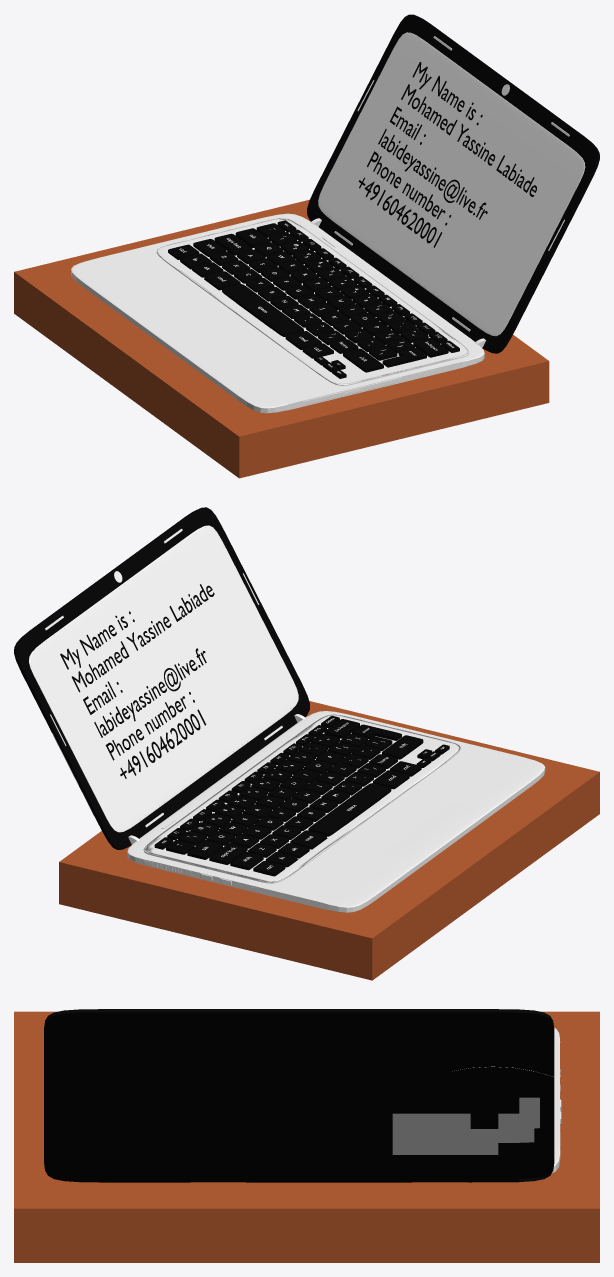
The picture shows the model from 3 angles, top to bottom: view 1: azimuth 30°, elevation 25°; view 2: azimuth 150°, elevation 25°; view 3: azimuth 270°, elevation 25°; orthographic projection. The views are drawn at different scales.
Visible parts, largest first — view 1: Text.002, Text, Cube, Text.001, Text.003; view 2: Text.002, Text, Cube, Text.001, Text.003; view 3: Text, Cube.
Part boxes in pixels (<box>): Text.002: <box>319,32,584,335</box>; Text: <box>71,14,599,413</box>; Cube: <box>14,199,549,478</box>; Text.001: <box>168,220,459,378</box>; Text.003: <box>358,62,536,247</box>; Text.002: <box>29,526,298,828</box>; Text: <box>14,507,545,912</box>; Cube: <box>59,701,599,980</box>; Text.001: <box>154,716,449,876</box>; Text.003: <box>60,584,214,778</box>; Text: <box>44,1009,561,1182</box>; Cube: <box>14,1011,599,1262</box>.
Bounding box in the file's own units: 5.16 × 2.96 × 5.32.
